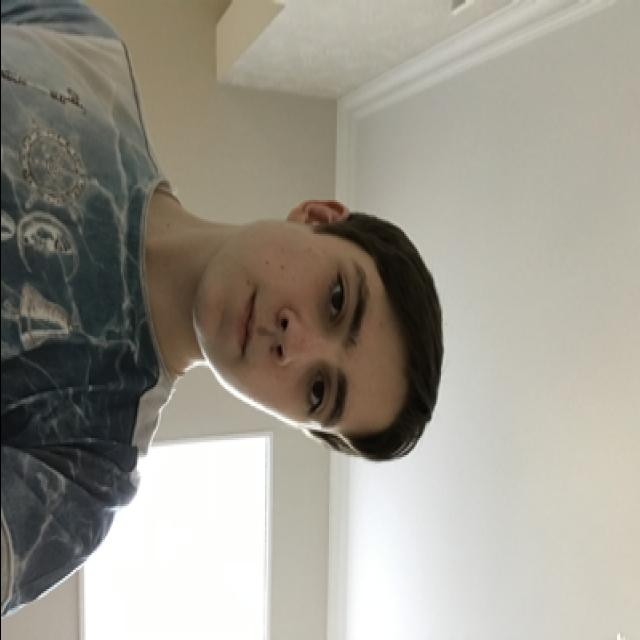without_mask: (190, 223, 368, 438)
